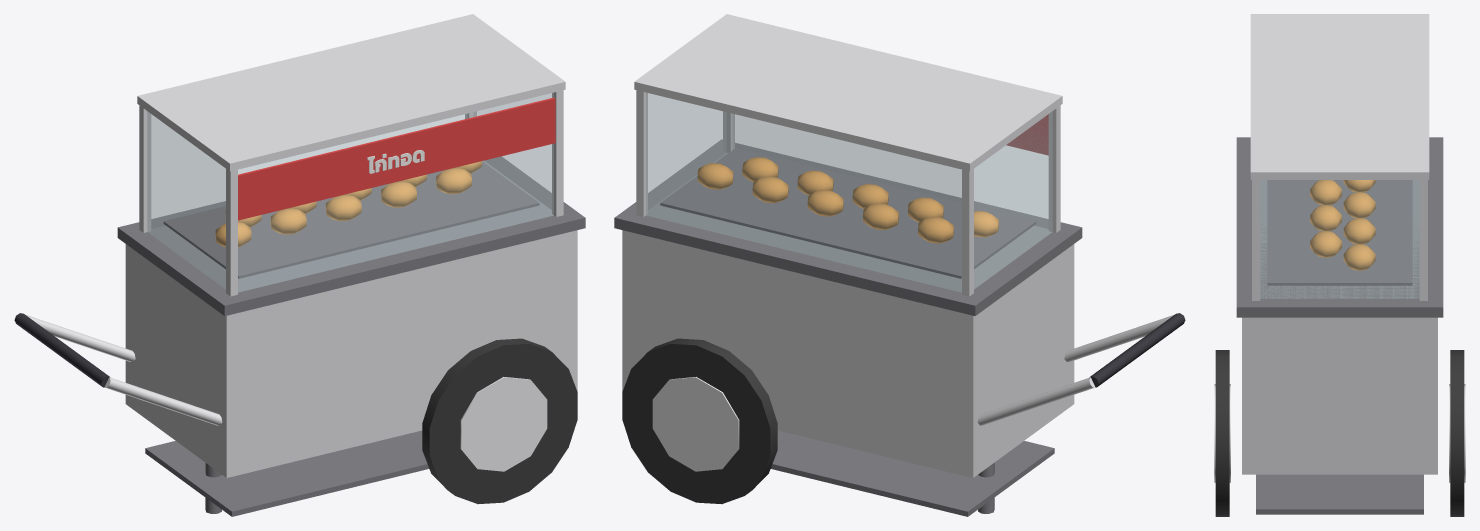
The model's file is SM_StreetCart.fbx.
The picture shows the model from 3 angles, left to right: view 1: azimuth 30°, elevation 25°; view 2: azimuth 150°, elevation 25°; view 3: azimuth 270°, elevation 25°; orthographic projection. The views are drawn at different scales.
Parts seen in each view (by area): view 1: SM_StreetCart; view 2: SM_StreetCart; view 3: SM_StreetCart.
Part boxes in pixels (x1=…): SM_StreetCart: x1=14, y1=14, x2=585, y2=516; SM_StreetCart: x1=614, y1=14, x2=1185, y2=516; SM_StreetCart: x1=1214, y1=14, x2=1465, y2=516.
Size of the model in its own units: 1.89 by 1.48 by 0.9.
